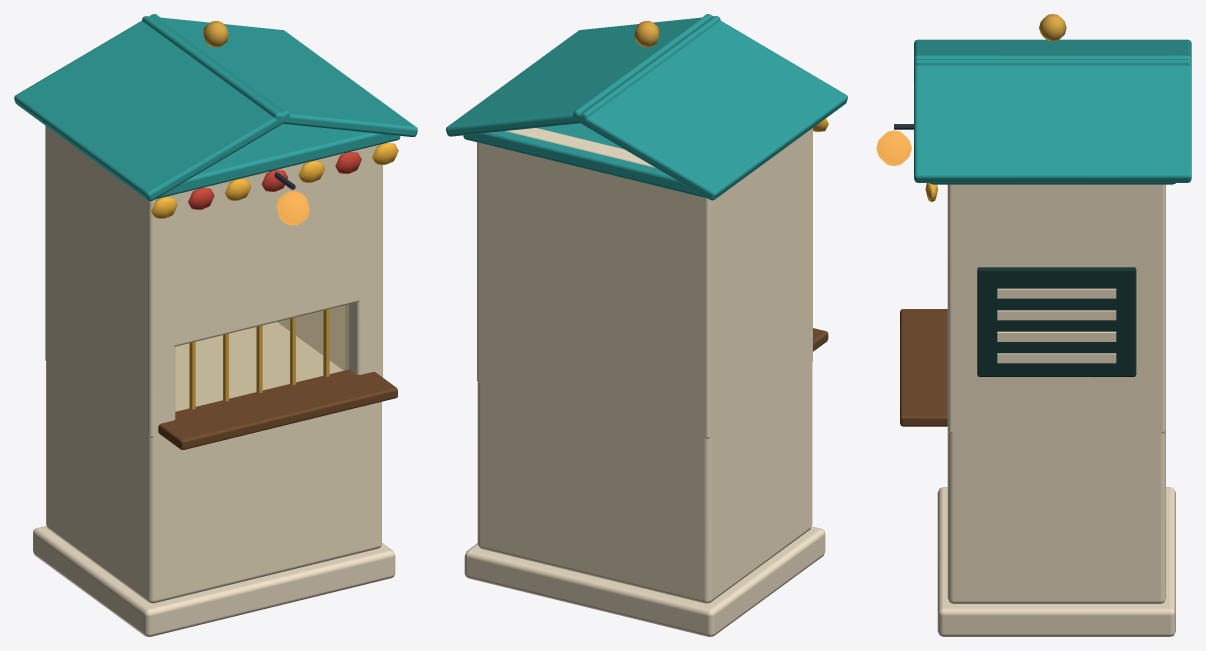
File: rt_ticket_booth.glb
The picture shows the model from 3 angles, left to right: view 1: azimuth 30°, elevation 25°; view 2: azimuth 150°, elevation 25°; view 3: azimuth 270°, elevation 25°; orthographic projection. The views are drawn at different scales.
Parts seen in each view (by area): view 1: rt_ticket_booth_body; view 2: rt_ticket_booth_body; view 3: rt_ticket_booth_body.
Boxes of the visible parts, box(x1,y1,x2,y2) form: rt_ticket_booth_body: box(14, 14, 417, 636); rt_ticket_booth_body: box(446, 14, 847, 636); rt_ticket_booth_body: box(876, 14, 1191, 636).
Size of the model in its own units: 1.62 by 3.12 by 1.59.
